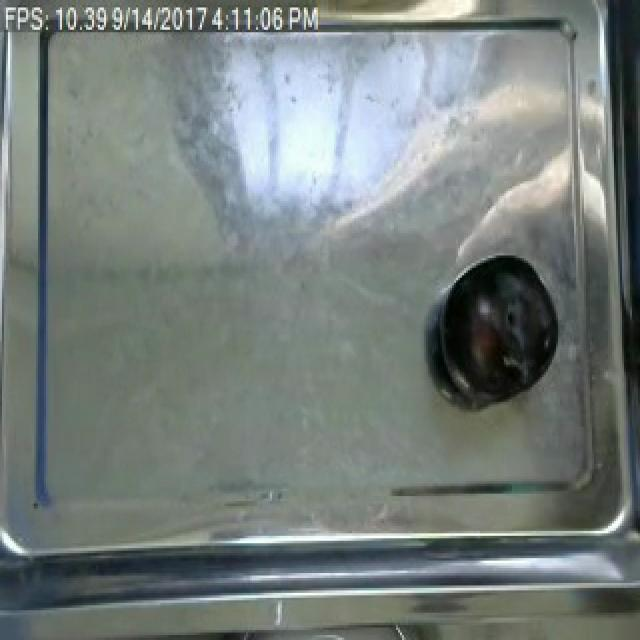Fruit: (432, 250, 564, 400)
